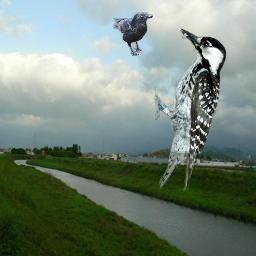Crow: (113, 12, 153, 56)
Woodpecker: (154, 27, 226, 191)
